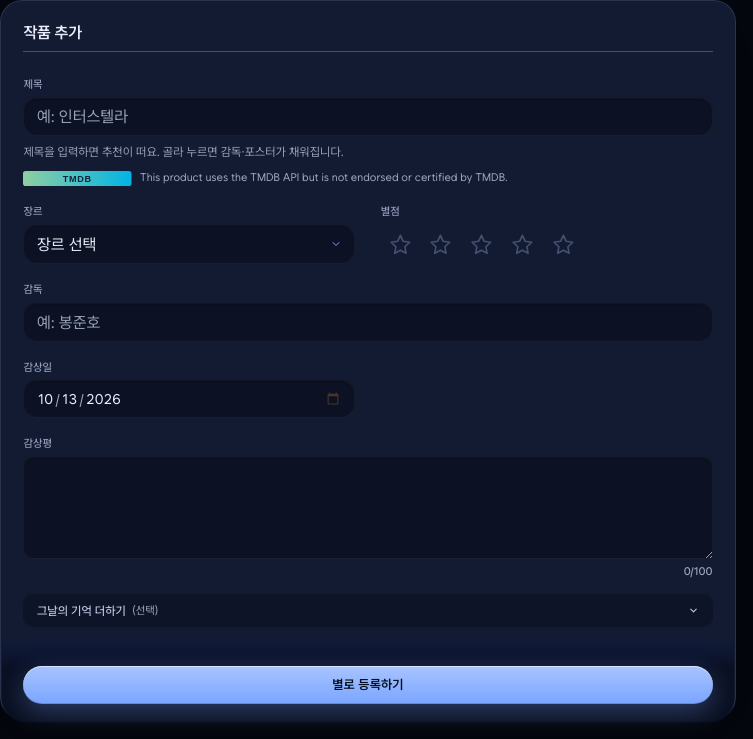
Test: AddWorkForm TMDB autocomplete › suggests movies while typing and fills title, genre, director, and poster on pick
Type "기생충" into the dropdown labelled "제목" at {"x": 368, "y": 117}, box left=23, top=98, right=713, bottom=136
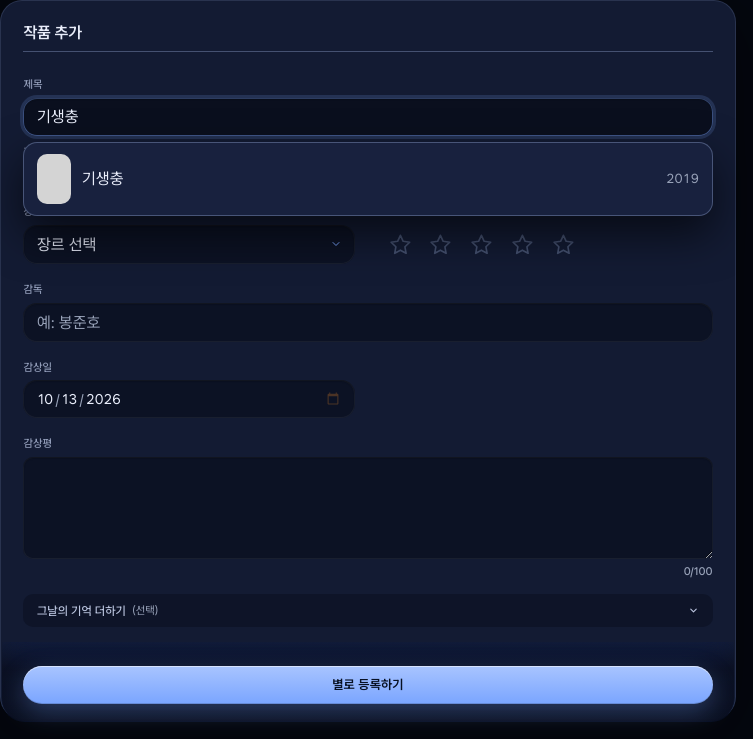
Check: the option "기생충 2019" is shown
Click the option "기생충 2019" at {"x": 54, "y": 179}, box left=29, top=148, right=707, bottom=210
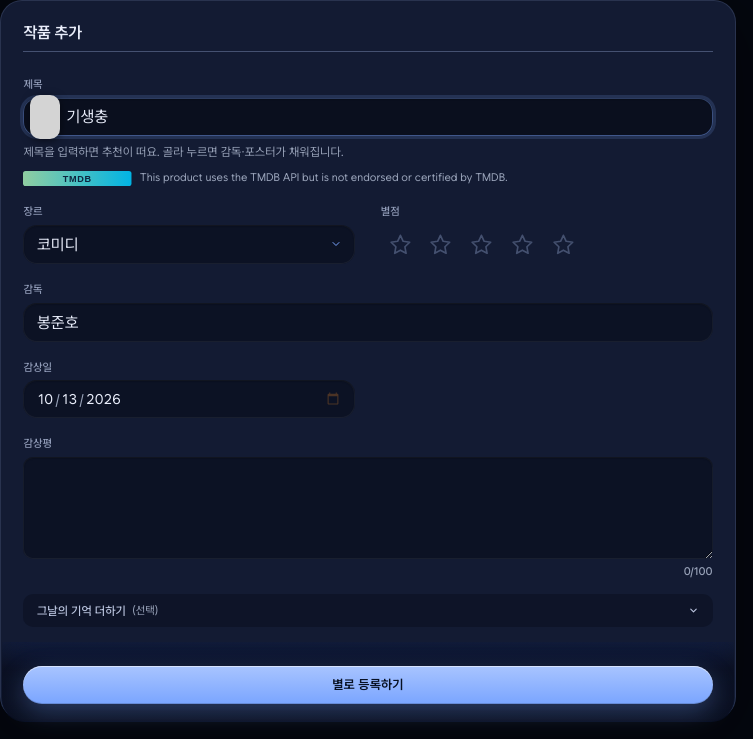
Check: the dropdown labelled "장르" shows "코미디", box left=23, top=225, right=355, bottom=264
Check: the field labelled "감독" holds "봉준호", box left=23, top=303, right=713, bottom=342
